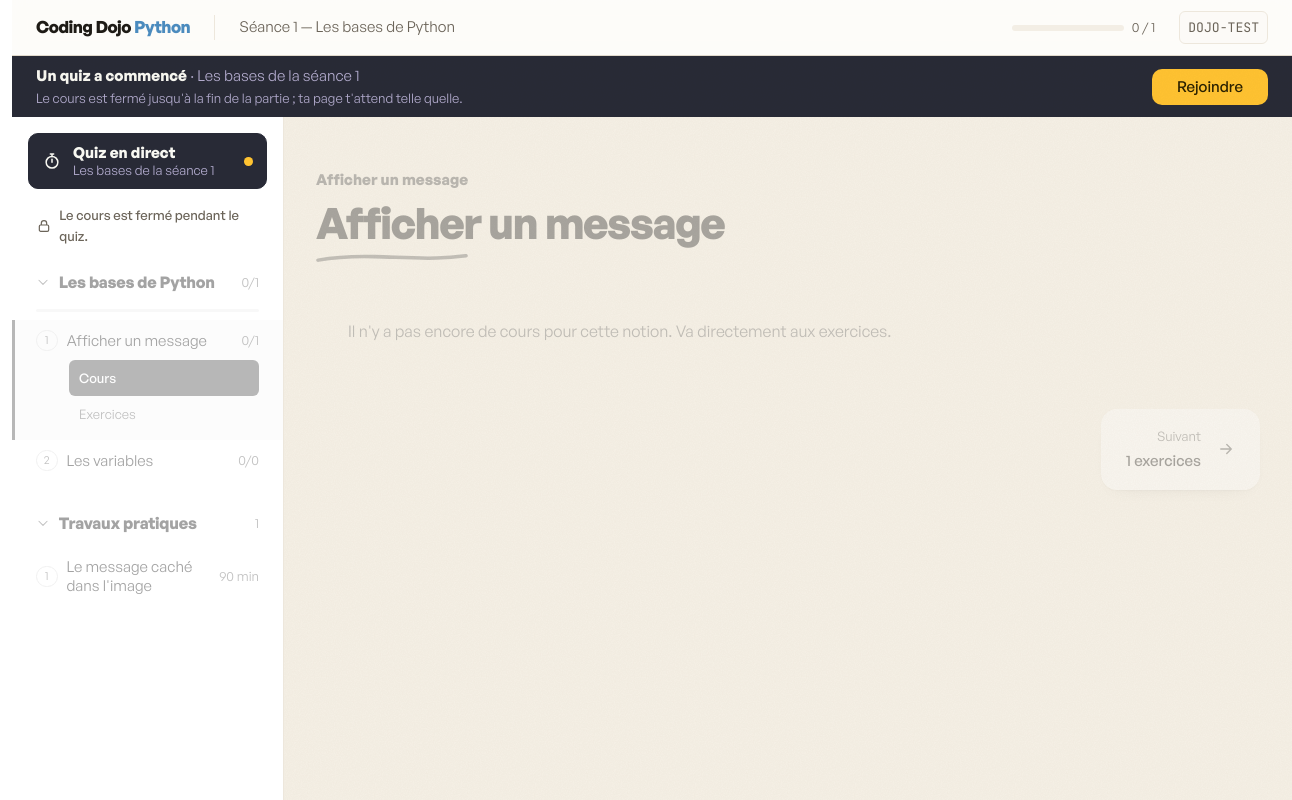
it: App — tableau de bord professeur › ferme tout le cours pendant une partie, et ouvre le chemin du quiz
Expected: the message shows "Le cours est fermé jusqu'à la fin de la partie", [36,90,463,106]
Expected: the number of links "Quiz en direct Les bases de la séance 1" is 1, [28,133,267,190]
Click the button "Rejoindre" at (1210,86), box [1152,68,1268,104]
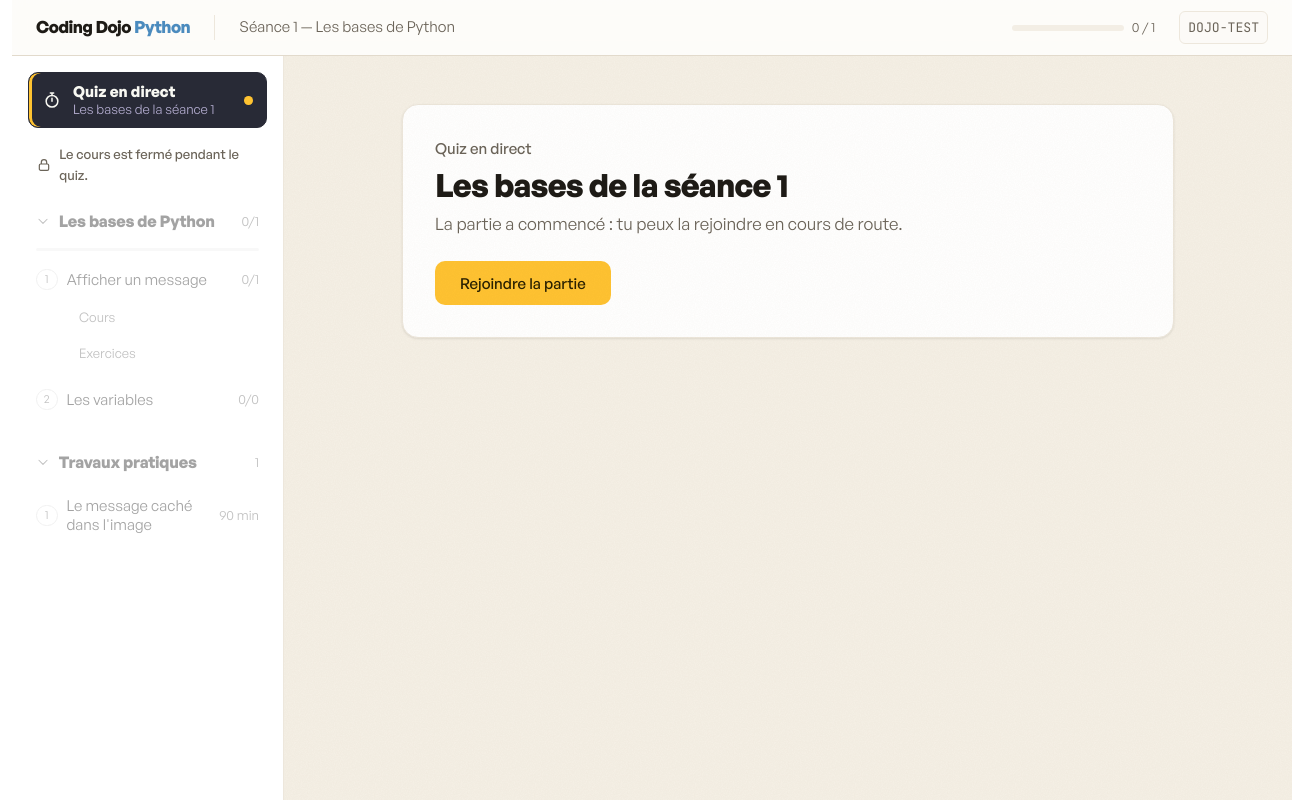
Expected: the message is gone
